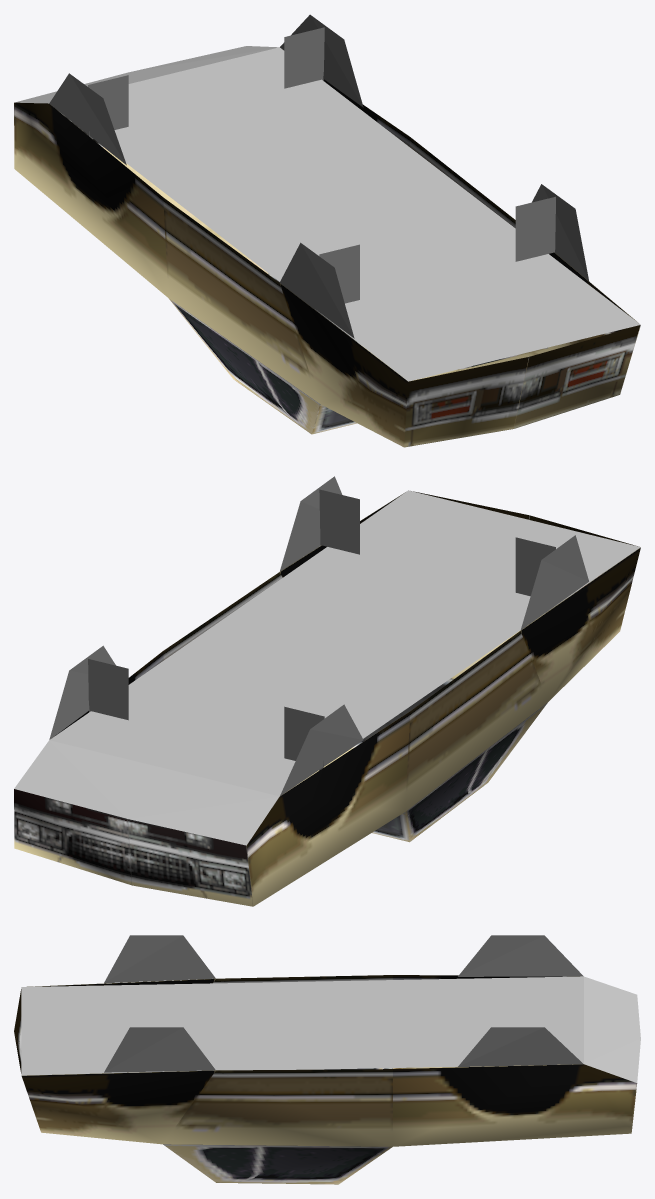
The model's file is RIO_model1_low.obj.
3 views of the same model, one above another, from view 1: azimuth 30°, elevation 25°; view 2: azimuth 150°, elevation 25°; view 3: azimuth 270°, elevation 25° (orthographic). The views are drawn at different scales.
Visible parts, largest first — view 1: RIO_model1_low; view 2: RIO_model1_low; view 3: RIO_model1_low.
Part boxes in pixels (left/top/right/bottom): RIO_model1_low: left=14, top=14, right=640, bottom=447; RIO_model1_low: left=14, top=476, right=640, bottom=906; RIO_model1_low: left=14, top=935, right=640, bottom=1184.
Size of the model in its own units: 238 by 200 by 670.
